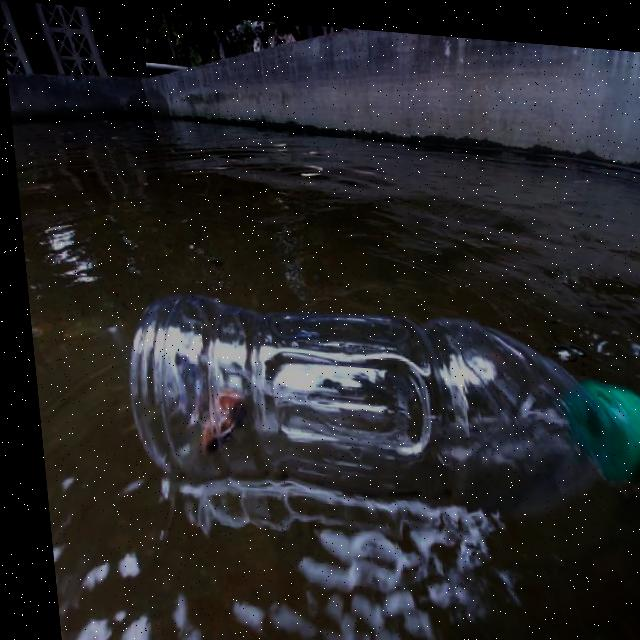waterbottle: (94, 268, 640, 592)
